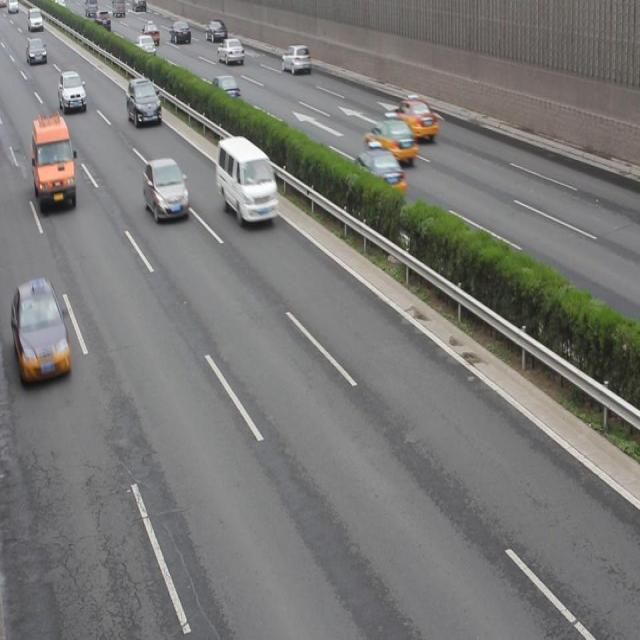car: (14, 281, 72, 384), (142, 157, 188, 225), (365, 111, 417, 164), (350, 143, 404, 194), (388, 92, 436, 138), (128, 80, 162, 127), (58, 71, 85, 113), (281, 45, 311, 75), (210, 73, 239, 102), (217, 36, 243, 64), (27, 38, 47, 63), (170, 22, 192, 43), (134, 34, 156, 55), (205, 20, 225, 43), (141, 22, 160, 46)
truck: (217, 136, 279, 224), (31, 114, 77, 207)
